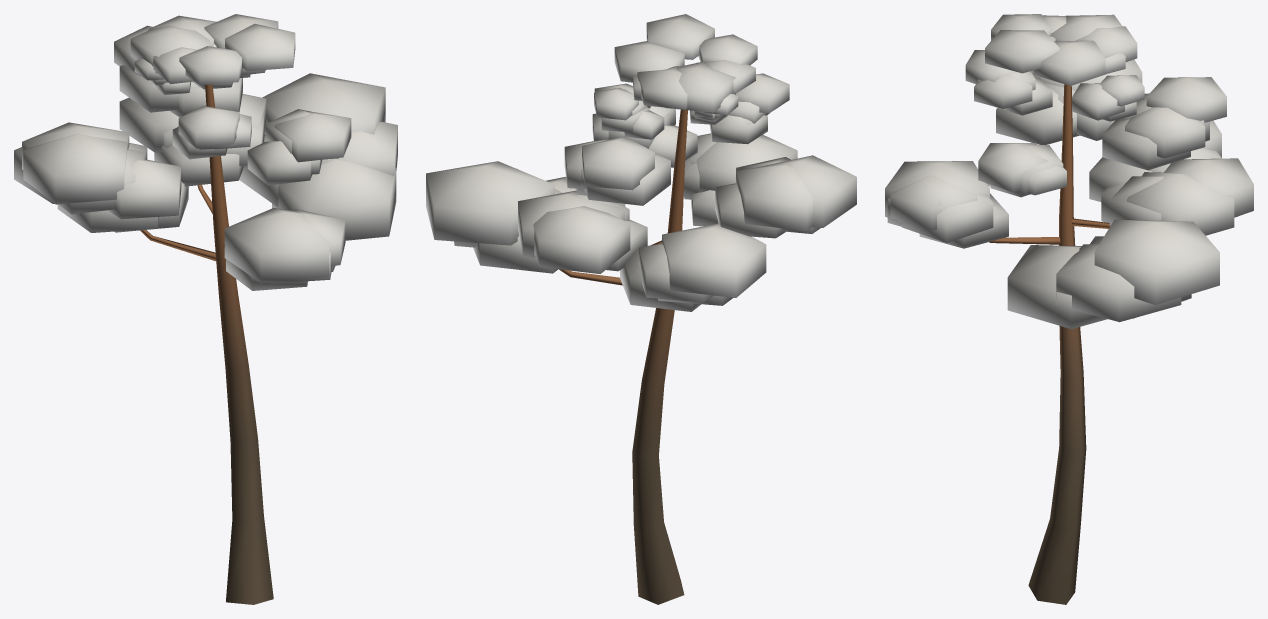
3 renders of one model, left to right at view 1: azimuth 30°, elevation 25°; view 2: azimuth 150°, elevation 25°; view 3: azimuth 270°, elevation 25°, orthographic. The views are drawn at different scales.
Parts seen in each view (by area): view 1: crown, trunk; view 2: crown, trunk; view 3: crown, trunk.
Boxes of the visible parts, x1,y1,x2,y2 form: crown: (14,14,397,290); trunk: (140,84,273,604); crown: (426,14,856,311); trunk: (559,109,687,604); crown: (885,14,1253,329); trunk: (989,84,1110,604).
Bounding box in the file's own units: 11.76 × 16.92 × 10.04.
